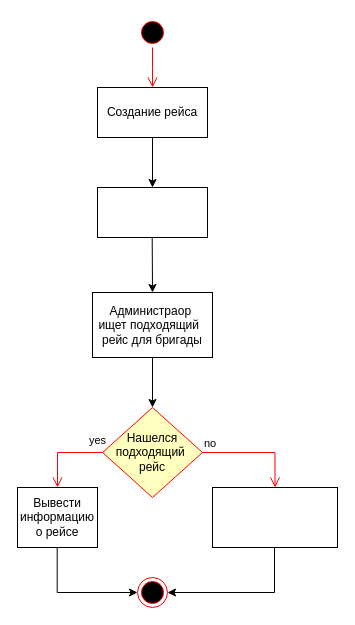
Image size: 355x625. Some labels were removed from this diagram. Each missing label, with the box of its shape:
Вывести сообщение об отсутсствии подходящего рейса: (212, 486, 338, 548)
Диспетчер формирует летную бригаду: (96, 186, 208, 238)
